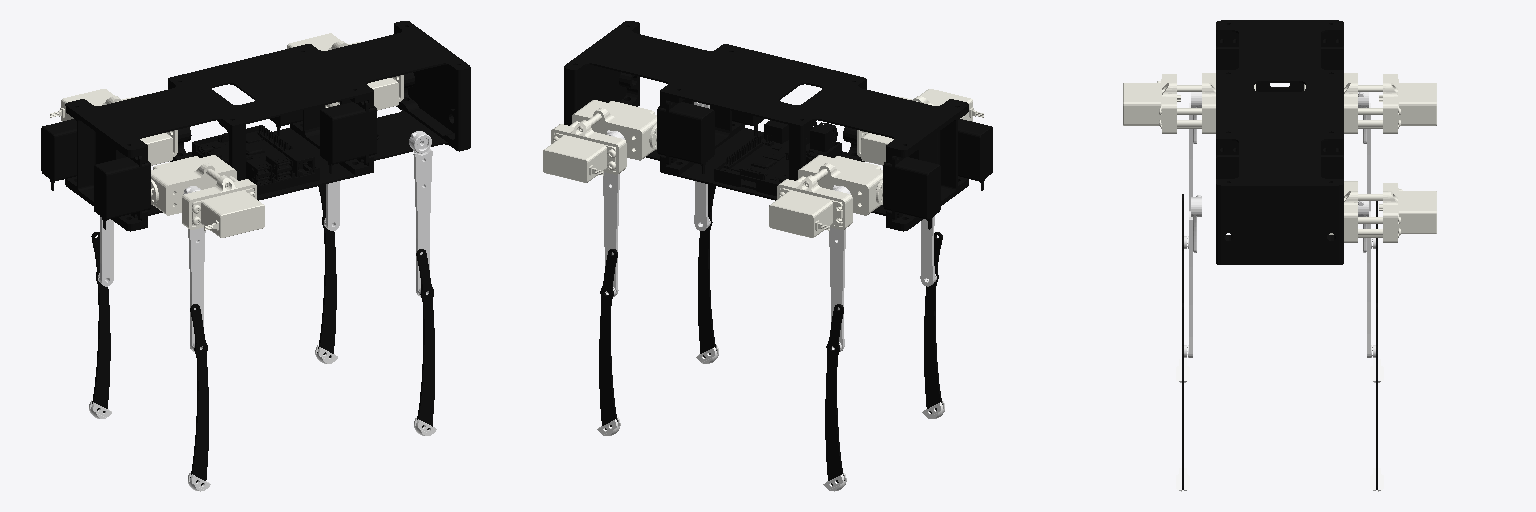
The robot description file, URDF, robot "pupper_description":
<?xml version="1.0" encoding="utf-8"?>
<!-- This URDF was automatically created by SolidWorks to URDF Exporter! Originally created by [author] ([email redacted]) 
     Commit Version: 1.6.0-1-g15f4949  Build Version: 1.6.7594.29634
     For more information, please see http://wiki.ros.org/sw_urdf_exporter -->
<robot
  name="pupper_description">
  <link
    name="base_link">
    <inertial>
      <origin
        xyz="-0.0162506459077204 -0.000768382912740857 0.00732395651440085"
        rpy="0 0 0" />
      <mass
        value="0.335689464917203" />
      <inertia
        ixx="0.000253504878934353"
        ixy="-1.60555371062766E-07"
        ixz="-6.55398627349617E-08"
        iyy="0.000634919778071858"
        iyz="4.97853319702218E-09"
        izz="0.000739141335180698" />
    </inertial>
    <visual>
      <origin
        xyz="0 0 0"
        rpy="0 0 0" />
      <geometry>
        <mesh
          filename="package://pupper_description/meshes/base_link.STL" />
      </geometry>
      <material
        name="">
        <color
          rgba="0.0980392156862745 0.0980392156862745 0.0980392156862745 1" />
      </material>
    </visual>
    <collision>
      <origin
        xyz="0 0 0"
        rpy="0 0 0" />
      <geometry>
        <mesh
          filename="package://pupper_description/meshes/base_link.STL" />
      </geometry>
    </collision>
  </link>
  <link
    name="LF1_LINK">
    <inertial>
      <origin
        xyz="0.0094994 0.027635 0.00025"
        rpy="0 0 0" />
      <mass
        value="0.094473" />
      <inertia
        ixx="1.5221E-05"
        ixy="-1.4855E-07"
        ixz="4.5494E-12"
        iyy="2.5726E-05"
        iyz="2.8306E-12"
        izz="3.1268E-05" />
    </inertial>
    <visual>
      <origin
        xyz="0 0 0"
        rpy="0 0 0" />
      <geometry>
        <mesh
          filename="package://pupper_description/meshes/LF1_LINK.STL" />
      </geometry>
      <material
        name="">
        <color
          rgba="0.97255 0.96863 0.92941 1" />
      </material>
    </visual>
    <collision>
      <origin
        xyz="0 0 0"
        rpy="0 0 0" />
      <geometry>
        <mesh
          filename="package://pupper_description/meshes/LF1_LINK.STL" />
      </geometry>
    </collision>
  </link>
  <joint
    name="LF1_JOINT"
    type="revolute">
    <origin
      xyz="0.099975 0.04 0"
      rpy="0 0 0" />
    <parent
      link="base_link" />
    <child
      link="LF1_LINK" />
    <axis
      xyz="1 0 0" />
    <limit
      lower="-3.14"
      upper="3.14"
      effort="0"
      velocity="0" />
  </joint>
  <link
    name="LF2_LINK">
    <inertial>
      <origin
        xyz="8.63889040983445E-06 -0.00264214982950654 -0.0468905689760424"
        rpy="0 0 0" />
      <mass
        value="0.00644071659973786" />
      <inertia
        ixx="5.26275766273341E-06"
        ixy="2.03466286066589E-10"
        ixz="-1.46928289646369E-09"
        iyy="5.33125013464116E-06"
        iyz="1.13871622606723E-08"
        izz="9.44068380084752E-08" />
    </inertial>
    <visual>
      <origin
        xyz="0 0 0"
        rpy="0 0 0" />
      <geometry>
        <mesh
          filename="package://pupper_description/meshes/LF2_LINK.STL" />
      </geometry>
      <material
        name="">
        <color
          rgba="0.96078431372549 0.96078431372549 0.964705882352941 1" />
      </material>
    </visual>
    <collision>
      <origin
        xyz="0 0 0"
        rpy="0 0 0" />
      <geometry>
        <mesh
          filename="package://pupper_description/meshes/LF2_LINK.STL" />
      </geometry>
    </collision>
  </link>
  <joint
    name="LF2_JOINT"
    type="revolute">
    <origin
      xyz="5E-05 0.03055 0.00025"
      rpy="0 0 0" />
    <parent
      link="LF1_LINK" />
    <child
      link="LF2_LINK" />
    <axis
      xyz="0 1 0" />
    <limit
      lower="-3.14"
      upper="3.14"
      effort="0"
      velocity="0" />
  </joint>
  <link
    name="LF3_LINK">
    <inertial>
      <origin
        xyz="-0.000129924191800565 0.000999999999223906 -0.0471721311968218"
        rpy="0 0 0" />
      <mass
        value="0.00294874734742106" />
      <inertia
        ixx="5.75461588434413E-06"
        ixy="-8.92589397030582E-17"
        ixz="5.08834969719319E-08"
        iyy="5.78867940463368E-06"
        iyz="4.73187604955928E-18"
        izz="3.60293650708631E-08" />
    </inertial>
    <visual>
      <origin
        xyz="0 0 0"
        rpy="0 0 0" />
      <geometry>
        <mesh
          filename="package://pupper_description/meshes/LF3_LINK.STL" />
      </geometry>
      <material
        name="">
        <color
          rgba="0.0980392156862745 0.0980392156862745 0.0980392156862745 1" />
      </material>
    </visual>
    <collision>
      <origin
        xyz="0 0 0"
        rpy="0 0 0" />
      <geometry>
        <mesh
          filename="package://pupper_description/meshes/LF3_LINK.STL" />
      </geometry>
    </collision>
  </link>
  <joint
    name="LF3_JOINT"
    type="revolute">
    <origin
      xyz="0 0.004 -0.1235"
      rpy="0 0 0" />
    <parent
      link="LF2_LINK" />
    <child
      link="LF3_LINK" />
    <axis
      xyz="0 1 0" />
    <limit
      lower="-3.14"
      upper="3.14"
      effort="0"
      velocity="0" />
  </joint>
  <link
    name="LF4_LINK">
    <inertial>
      <origin
        xyz="-0.00374090817330411 0.00100000000922303 -2.31021576633517E-05"
        rpy="0 0 0" />
      <mass
        value="0.000763173521228735" />
      <inertia
        ixx="1.41440985654899E-08"
        ixy="1.06759205123636E-15"
        ixz="5.10047291942637E-09"
        iyy="2.19176215927238E-08"
        iyz="-8.26949588320176E-16"
        izz="1.73286158974325E-08" />
    </inertial>
    <visual>
      <origin
        xyz="0 0 0"
        rpy="0 0 0" />
      <geometry>
        <mesh
          filename="package://pupper_description/meshes/LF4_LINK.STL" />
      </geometry>
      <material
        name="">
        <color
          rgba="1 1 1 1" />
      </material>
    </visual>
    <collision>
      <origin
        xyz="0 0 0"
        rpy="0 0 0" />
      <geometry>
        <mesh
          filename="package://pupper_description/meshes/LF4_LINK.STL" />
      </geometry>
    </collision>
  </link>
  <joint
    name="LF4_JOINT"
    type="fixed">
    <origin
      xyz="0 0 -0.113931686914599"
      rpy="0 0 0" />
    <parent
      link="LF3_LINK" />
    <child
      link="LF4_LINK" />
    <axis
      xyz="0 0 0" />
  </joint>
  <link
    name="LB1_LINK">
    <inertial>
      <origin
        xyz="0.009585406940762 0.027550529745543 0.00025001153424567"
        rpy="0 0 0" />
      <mass
        value="0.0941384775491254" />
      <inertia
        ixx="1.52156469339256E-05"
        ixy="-1.48546162320895E-07"
        ixz="4.53779734290037E-12"
        iyy="2.57250339713229E-05"
        iyz="1.51036299293262E-12"
        izz="3.12633194442149E-05" />
    </inertial>
    <visual>
      <origin
        xyz="0 0 0"
        rpy="0 0 0" />
      <geometry>
        <mesh
          filename="package://pupper_description/meshes/LB1_LINK.STL" />
      </geometry>
      <material
        name="">
        <color
          rgba="0.972549019607843 0.968627450980392 0.929411764705882 1" />
      </material>
    </visual>
    <collision>
      <origin
        xyz="0 0 0"
        rpy="0 0 0" />
      <geometry>
        <mesh
          filename="package://pupper_description/meshes/LB1_LINK.STL" />
      </geometry>
    </collision>
  </link>
  <joint
    name="LB1_JOINT"
    type="revolute">
    <origin
      xyz="-0.10002 0.04 0"
      rpy="0 0 0" />
    <parent
      link="base_link" />
    <child
      link="LB1_LINK" />
    <axis
      xyz="1 0 0" />
    <limit
      lower="-3.14"
      upper="3.14"
      effort="0"
      velocity="0" />
  </joint>
  <link
    name="LB2_LINK">
    <inertial>
      <origin
        xyz="8.63889040977894E-06 -0.00264214982950655 -0.0468905689760424"
        rpy="0 0 0" />
      <mass
        value="0.00644071659973786" />
      <inertia
        ixx="5.26275766273341E-06"
        ixy="2.03466286066644E-10"
        ixz="-1.46928289646651E-09"
        iyy="5.33125013464116E-06"
        iyz="1.13871622606717E-08"
        izz="9.44068380084752E-08" />
    </inertial>
    <visual>
      <origin
        xyz="0 0 0"
        rpy="0 0 0" />
      <geometry>
        <mesh
          filename="package://pupper_description/meshes/LB2_LINK.STL" />
      </geometry>
      <material
        name="">
        <color
          rgba="0.96078431372549 0.96078431372549 0.964705882352941 1" />
      </material>
    </visual>
    <collision>
      <origin
        xyz="0 0 0"
        rpy="0 0 0" />
      <geometry>
        <mesh
          filename="package://pupper_description/meshes/LB2_LINK.STL" />
      </geometry>
    </collision>
  </link>
  <joint
    name="LB2_JOINT"
    type="revolute">
    <origin
      xyz="5E-05 0.03055 0.00025"
      rpy="0 0 0" />
    <parent
      link="LB1_LINK" />
    <child
      link="LB2_LINK" />
    <axis
      xyz="0 1 0" />
    <limit
      lower="-3.14"
      upper="3.14"
      effort="0"
      velocity="0" />
  </joint>
  <link
    name="LB3_LINK">
    <inertial>
      <origin
        xyz="-0.000129924191800551 0.000999999999223872 -0.0471721311968219"
        rpy="0 0 0" />
      <mass
        value="0.00294874734742106" />
      <inertia
        ixx="5.75461588434412E-06"
        ixy="-8.92589643743615E-17"
        ixz="5.08834969719309E-08"
        iyy="5.78867940463366E-06"
        iyz="4.7300446288409E-18"
        izz="3.60293650708633E-08" />
    </inertial>
    <visual>
      <origin
        xyz="0 0 0"
        rpy="0 0 0" />
      <geometry>
        <mesh
          filename="package://pupper_description/meshes/LB3_LINK.STL" />
      </geometry>
      <material
        name="">
        <color
          rgba="0.0980392156862745 0.0980392156862745 0.0980392156862745 1" />
      </material>
    </visual>
    <collision>
      <origin
        xyz="0 0 0"
        rpy="0 0 0" />
      <geometry>
        <mesh
          filename="package://pupper_description/meshes/LB3_LINK.STL" />
      </geometry>
    </collision>
  </link>
  <joint
    name="LB3_JOINT"
    type="revolute">
    <origin
      xyz="0 0.004 -0.1235"
      rpy="0 0 0" />
    <parent
      link="LB2_LINK" />
    <child
      link="LB3_LINK" />
    <axis
      xyz="0 1 0" />
    <limit
      lower="-3.14"
      upper="3.14"
      effort="0"
      velocity="0" />
  </joint>
  <link
    name="LB4_LINK">
    <inertial>
      <origin
        xyz="-0.00374090817330523 0.00100000000922307 -2.31021576631019E-05"
        rpy="0 0 0" />
      <mass
        value="0.000763173521228731" />
      <inertia
        ixx="1.41440985654899E-08"
        ixy="1.06759204479509E-15"
        ixz="5.10047291942632E-09"
        iyy="2.19176215927236E-08"
        iyz="-8.26949585156341E-16"
        izz="1.73286158974323E-08" />
    </inertial>
    <visual>
      <origin
        xyz="0 0 0"
        rpy="0 0 0" />
      <geometry>
        <mesh
          filename="package://pupper_description/meshes/LB4_LINK.STL" />
      </geometry>
      <material
        name="">
        <color
          rgba="1 1 1 1" />
      </material>
    </visual>
    <collision>
      <origin
        xyz="0 0 0"
        rpy="0 0 0" />
      <geometry>
        <mesh
          filename="package://pupper_description/meshes/LB4_LINK.STL" />
      </geometry>
    </collision>
  </link>
  <joint
    name="LB4_JOINT"
    type="fixed">
    <origin
      xyz="0 0 -0.113931686914599"
      rpy="0 0 0" />
    <parent
      link="LB3_LINK" />
    <child
      link="LB4_LINK" />
    <axis
      xyz="0 0 0" />
  </joint>
  <link
    name="RF1_LINK">
    <inertial>
      <origin
        xyz="0.00978050990530506 -0.0277816463189553 0.000284776784619953"
        rpy="0 0 0" />
      <mass
        value="0.0934808489889548" />
      <inertia
        ixx="1.51756721151915E-05"
        ixy="1.48545790976514E-07"
        ixz="-4.53885830929164E-12"
        iyy="2.57051716804686E-05"
        iyz="2.36070892884399E-12"
        izz="3.12413127167845E-05" />
    </inertial>
    <visual>
      <origin
        xyz="0 0 0"
        rpy="0 0 0" />
      <geometry>
        <mesh
          filename="package://pupper_description/meshes/RF1_LINK.STL" />
      </geometry>
      <material
        name="">
        <color
          rgba="0.972549019607843 0.968627450980392 0.929411764705882 1" />
      </material>
    </visual>
    <collision>
      <origin
        xyz="0 0 0"
        rpy="0 0 0" />
      <geometry>
        <mesh
          filename="package://pupper_description/meshes/RF1_LINK.STL" />
      </geometry>
    </collision>
  </link>
  <joint
    name="RF1_JOINT"
    type="revolute">
    <origin
      xyz="0.10002 -0.04 0"
      rpy="0 0 0" />
    <parent
      link="base_link" />
    <child
      link="RF1_LINK" />
    <axis
      xyz="1 0 0" />
    <limit
      lower="-3.14"
      upper="3.14"
      effort="0"
      velocity="0" />
  </joint>
  <link
    name="RF2_LINK">
    <inertial>
      <origin
        xyz="-8.63889040977894E-06 0.00264214982950657 -0.0468905689760424"
        rpy="0 0 0" />
      <mass
        value="0.00644071659973786" />
      <inertia
        ixx="5.2627576627334E-06"
        ixy="2.03466286066677E-10"
        ixz="1.46928289646906E-09"
        iyy="5.33125013464116E-06"
        iyz="-1.13871622606735E-08"
        izz="9.44068380084753E-08" />
    </inertial>
    <visual>
      <origin
        xyz="0 0 0"
        rpy="0 0 0" />
      <geometry>
        <mesh
          filename="package://pupper_description/meshes/RF2_LINK.STL" />
      </geometry>
      <material
        name="">
        <color
          rgba="0.96078431372549 0.96078431372549 0.964705882352941 1" />
      </material>
    </visual>
    <collision>
      <origin
        xyz="0 0 0"
        rpy="0 0 0" />
      <geometry>
        <mesh
          filename="package://pupper_description/meshes/RF2_LINK.STL" />
      </geometry>
    </collision>
  </link>
  <joint
    name="RF2_JOINT"
    type="revolute">
    <origin
      xyz="0 -0.03055 0.00025"
      rpy="0 0 0" />
    <parent
      link="RF1_LINK" />
    <child
      link="RF2_LINK" />
    <axis
      xyz="0 1 0" />
    <limit
      lower="-3.14"
      upper="3.14"
      effort="0"
      velocity="0" />
  </joint>
  <link
    name="RF3_LINK">
    <inertial>
      <origin
        xyz="-0.000129924191801786 0.000999999999223858 -0.047172131196822"
        rpy="0 0 0" />
      <mass
        value="0.00294874734742106" />
      <inertia
        ixx="5.75461588434413E-06"
        ixy="-8.9258911883843E-17"
        ixz="5.0883496971782E-08"
        iyy="5.78867940463367E-06"
        iyz="4.72982134737909E-18"
        izz="3.60293650708605E-08" />
    </inertial>
    <visual>
      <origin
        xyz="0 0 0"
        rpy="0 0 0" />
      <geometry>
        <mesh
          filename="package://pupper_description/meshes/RF3_LINK.STL" />
      </geometry>
      <material
        name="">
        <color
          rgba="0.0980392156862745 0.0980392156862745 0.0980392156862745 1" />
      </material>
    </visual>
    <collision>
      <origin
        xyz="0 0 0"
        rpy="0 0 0" />
      <geometry>
        <mesh
          filename="package://pupper_description/meshes/RF3_LINK.STL" />
      </geometry>
    </collision>
  </link>
  <joint
    name="RF3_JOINT"
    type="revolute">
    <origin
      xyz="0 -0.006 -0.1235"
      rpy="0 0 0" />
    <parent
      link="RF2_LINK" />
    <child
      link="RF3_LINK" />
    <axis
      xyz="0 1 0" />
    <limit
      lower="-3.14"
      upper="3.14"
      effort="0"
      velocity="0" />
  </joint>
  <link
    name="RF4_LINK">
    <inertial>
      <origin
        xyz="-0.00374090817330522 0.00100000000922303 -2.31021576641011E-05"
        rpy="0 0 0" />
      <mass
        value="0.000763173521228736" />
      <inertia
        ixx="1.41440985654902E-08"
        ixy="1.06759204526981E-15"
        ixz="5.10047291942646E-09"
        iyy="2.19176215927238E-08"
        iyz="-8.26949569417191E-16"
        izz="1.73286158974323E-08" />
    </inertial>
    <visual>
      <origin
        xyz="0 0 0"
        rpy="0 0 0" />
      <geometry>
        <mesh
          filename="package://pupper_description/meshes/RF4_LINK.STL" />
      </geometry>
      <material
        name="">
        <color
          rgba="1 1 1 1" />
      </material>
    </visual>
    <collision>
      <origin
        xyz="0 0 0"
        rpy="0 0 0" />
      <geometry>
        <mesh
          filename="package://pupper_description/meshes/RF4_LINK.STL" />
      </geometry>
    </collision>
  </link>
  <joint
    name="RF4_JOINT"
    type="fixed">
    <origin
      xyz="0 0 -0.113931686914599"
      rpy="0 0 0" />
    <parent
      link="RF3_LINK" />
    <child
      link="RF4_LINK" />
    <axis
      xyz="0 0 0" />
  </joint>
  <link
    name="RB1_LINK">
    <inertial>
      <origin
        xyz="0.00944364494970409 -0.0276216931408096 1.39692429542218E-05"
        rpy="0 0 0" />
      <mass
        value="0.0943900850947082" />
      <inertia
        ixx="1.52195698298681E-05"
        ixy="1.4854567835994E-07"
        ixz="-4.54907234322419E-12"
        iyy="2.57261919968404E-05"
        iyz="2.86364652719624E-12"
        izz="3.12672427488988E-05" />
    </inertial>
    <visual>
      <origin
        xyz="0 0 0"
        rpy="0 0 0" />
      <geometry>
        <mesh
          filename="package://pupper_description/meshes/RB1_LINK.STL" />
      </geometry>
      <material
        name="">
        <color
          rgba="0.972549019607843 0.968627450980392 0.929411764705882 1" />
      </material>
    </visual>
    <collision>
      <origin
        xyz="0 0 0"
        rpy="0 0 0" />
      <geometry>
        <mesh
          filename="package://pupper_description/meshes/RB1_LINK.STL" />
      </geometry>
    </collision>
  </link>
  <joint
    name="RB1_JOINT"
    type="revolute">
    <origin
      xyz="-0.099975 -0.04 0.00025"
      rpy="0 0 0" />
    <parent
      link="base_link" />
    <child
      link="RB1_LINK" />
    <axis
      xyz="1 0 0" />
    <limit
      lower="-3.14"
      upper="3.14"
      effort="0"
      velocity="0" />
  </joint>
  <link
    name="RB2_LINK">
    <inertial>
      <origin
        xyz="-8.63889040975119E-06 0.00264214982950657 -0.0468905689760425"
        rpy="0 0 0" />
      <mass
        value="0.00644071659973788" />
      <inertia
        ixx="5.26275766273344E-06"
        ixy="2.03466286066676E-10"
        ixz="1.46928289646395E-09"
        iyy="5.33125013464119E-06"
        iyz="-1.13871622606714E-08"
        izz="9.44068380084755E-08" />
    </inertial>
    <visual>
      <origin
        xyz="0 0 0"
        rpy="0 0 0" />
      <geometry>
        <mesh
          filename="package://pupper_description/meshes/RB2_LINK.STL" />
      </geometry>
      <material
        name="">
        <color
          rgba="0.96078431372549 0.96078431372549 0.964705882352941 1" />
      </material>
    </visual>
    <collision>
      <origin
        xyz="0 0 0"
        rpy="0 0 0" />
      <geometry>
        <mesh
          filename="package://pupper_description/meshes/RB2_LINK.STL" />
      </geometry>
    </collision>
  </link>
  <joint
    name="RB2_JOINT"
    type="revolute">
    <origin
      xyz="0 -0.03055 0"
      rpy="0 0 0" />
    <parent
      link="RB1_LINK" />
    <child
      link="RB2_LINK" />
    <axis
      xyz="0 1 0" />
    <limit
      lower="-3.14"
      upper="3.14"
      effort="0"
      velocity="0" />
  </joint>
  <link
    name="RB3_LINK">
    <inertial>
      <origin
        xyz="-0.000129924191801828 0.000999999999223872 -0.0471721311968217"
        rpy="0 0 0" />
      <mass
        value="0.00294874734742106" />
      <inertia
        ixx="5.75461588434414E-06"
        ixy="-8.92588982429293E-17"
        ixz="5.0883496971782E-08"
        iyy="5.78867940463369E-06"
        iyz="4.72947310489133E-18"
        izz="3.60293650708606E-08" />
    </inertial>
    <visual>
      <origin
        xyz="0 0 0"
        rpy="0 0 0" />
      <geometry>
        <mesh
          filename="package://pupper_description/meshes/RB3_LINK.STL" />
      </geometry>
      <material
        name="">
        <color
          rgba="0.0980392156862745 0.0980392156862745 0.0980392156862745 1" />
      </material>
    </visual>
    <collision>
      <origin
        xyz="0 0 0"
        rpy="0 0 0" />
      <geometry>
        <mesh
          filename="package://pupper_description/meshes/RB3_LINK.STL" />
      </geometry>
    </collision>
  </link>
  <joint
    name="RB3_JOINT"
    type="revolute">
    <origin
      xyz="0 -0.006 -0.1235"
      rpy="0 0 0" />
    <parent
      link="RB2_LINK" />
    <child
      link="RB3_LINK" />
    <axis
      xyz="0 1 0" />
    <limit
      lower="-3.14"
      upper="3.14"
      effort="0"
      velocity="0" />
  </joint>
  <link
    name="RB4_LINK">
    <inertial>
      <origin
        xyz="-0.00374090817330429 0.00100000000922301 -2.31021576633794E-05"
        rpy="0 0 0" />
      <mass
        value="0.000763173521228731" />
      <inertia
        ixx="1.41440985654902E-08"
        ixy="1.06759205087569E-15"
        ixz="5.10047291942641E-09"
        iyy="2.19176215927236E-08"
        iyz="-8.2694957854694E-16"
        izz="1.73286158974321E-08" />
    </inertial>
    <visual>
      <origin
        xyz="0 0 0"
        rpy="0 0 0" />
      <geometry>
        <mesh
          filename="package://pupper_description/meshes/RB4_LINK.STL" />
      </geometry>
      <material
        name="">
        <color
          rgba="1 1 1 1" />
      </material>
    </visual>
    <collision>
      <origin
        xyz="0 0 0"
        rpy="0 0 0" />
      <geometry>
        <mesh
          filename="package://pupper_description/meshes/RB4_LINK.STL" />
      </geometry>
    </collision>
  </link>
  <joint
    name="RB4_JOINT"
    type="fixed">
    <origin
      xyz="0 0 -0.113931686914599"
      rpy="0 0 0" />
    <parent
      link="RB3_LINK" />
    <child
      link="RB4_LINK" />
    <axis
      xyz="0 0 0" />
  </joint>
</robot>

--- Facts derived from the render (not from the file) ---
The picture shows the robot from 3 angles, left to right: view 1: azimuth 30°, elevation 25°; view 2: azimuth 150°, elevation 25°; view 3: azimuth 270°, elevation 25°; orthographic projection.
Model pupper_description with 17 links and 16 joints (12 revolute, 4 fixed), rooted at base_link, posed every joint at zero.
Links seen in each view (by area): view 1: base_link, RB1_LINK, RF2_LINK, RB3_LINK, RF3_LINK, LB3_LINK, LF3_LINK, LB1_LINK, LF1_LINK, RB2_LINK, LB2_LINK, LF2_LINK; view 2: base_link, LB1_LINK, LF1_LINK, LB3_LINK, LF3_LINK, RB3_LINK, RF3_LINK, RB1_LINK, LF2_LINK, LB2_LINK, RB2_LINK, RF2_LINK; view 3: base_link, LF1_LINK, RB1_LINK, LB1_LINK, RF2_LINK, LF2_LINK, RB2_LINK, LB2_LINK.
Link boxes in pixels (bbox=[...]): base_link: bbox=[41, 21, 470, 231]; RB1_LINK: bbox=[151, 155, 264, 237]; RF2_LINK: bbox=[409, 131, 432, 296]; RB3_LINK: bbox=[190, 304, 208, 485]; RF3_LINK: bbox=[416, 249, 434, 429]; LB3_LINK: bbox=[91, 232, 110, 412]; LF3_LINK: bbox=[317, 184, 336, 357]; LB1_LINK: bbox=[50, 89, 177, 165]; LF1_LINK: bbox=[287, 33, 403, 110]; RB2_LINK: bbox=[183, 186, 205, 351]; LB2_LINK: bbox=[98, 217, 113, 286]; LF2_LINK: bbox=[324, 181, 339, 230]; base_link: bbox=[564, 21, 992, 231]; LB1_LINK: bbox=[769, 155, 882, 237]; LF1_LINK: bbox=[543, 100, 656, 182]; LB3_LINK: bbox=[825, 304, 844, 485]; LF3_LINK: bbox=[599, 249, 617, 429]; RB3_LINK: bbox=[924, 232, 942, 413]; RF3_LINK: bbox=[698, 184, 716, 357]; RB1_LINK: bbox=[857, 89, 983, 165]; LF2_LINK: bbox=[603, 130, 624, 296]; LB2_LINK: bbox=[829, 185, 850, 351]; RB2_LINK: bbox=[920, 216, 936, 286]; RF2_LINK: bbox=[694, 102, 710, 230]; base_link: bbox=[1216, 20, 1343, 264]; LF1_LINK: bbox=[1329, 181, 1436, 242]; RB1_LINK: bbox=[1123, 73, 1255, 133]; LB1_LINK: bbox=[1304, 73, 1436, 133]; RF2_LINK: bbox=[1184, 195, 1201, 357]; LF2_LINK: bbox=[1358, 201, 1375, 357]; RB2_LINK: bbox=[1184, 92, 1201, 248]; LB2_LINK: bbox=[1358, 92, 1375, 248].
Size in the robot's own frame: 0.3237 by 0.2443 by 0.2875 metres.
Meshes: 17 distinct files referenced, 16 mesh visuals loaded (16 binary STL); not drawn: 1 (reference not matched to a file when rendering).